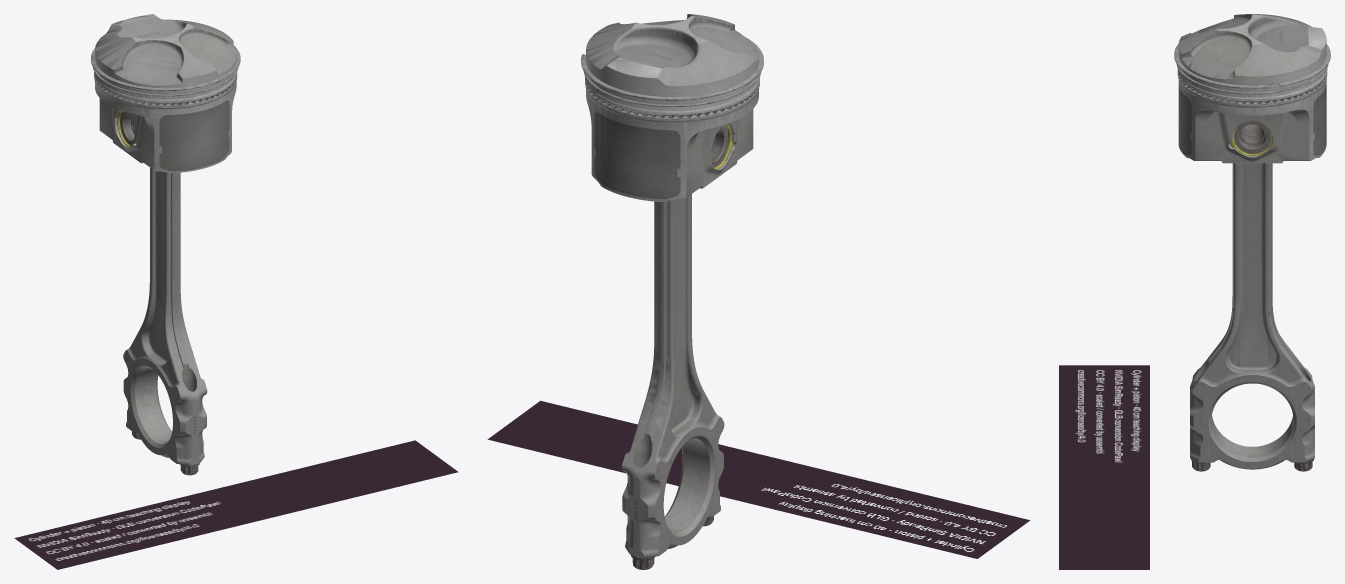
The model's file is engine.glb.
The picture shows the model from 3 angles, left to right: view 1: azimuth 30°, elevation 25°; view 2: azimuth 150°, elevation 25°; view 3: azimuth 270°, elevation 25°; orthographic projection. The views are drawn at different scales.
Parts seen in each view (by area): view 1: head_01_mesh_00_1, Scale_and_credit, base_01_mesh_00; view 2: head_01_mesh_00_1, Scale_and_credit, base_01_mesh_00; view 3: head_01_mesh_00_1, Scale_and_credit, base_01_mesh_00.
Boxes of the visible parts, x1,y1,x2,y2 form: head_01_mesh_00_1: [91, 14, 240, 173]; Scale_and_credit: [14, 440, 458, 569]; base_01_mesh_00: [123, 167, 207, 475]; head_01_mesh_00_1: [581, 14, 763, 202]; Scale_and_credit: [487, 400, 1029, 558]; base_01_mesh_00: [621, 194, 724, 569]; head_01_mesh_00_1: [1174, 14, 1330, 163]; Scale_and_credit: [1059, 365, 1149, 569]; base_01_mesh_00: [1190, 163, 1314, 471].
Size of the model in its own units: 0.4 by 0.4 by 0.2244.
Materials: 2 (2 with a texture image).
